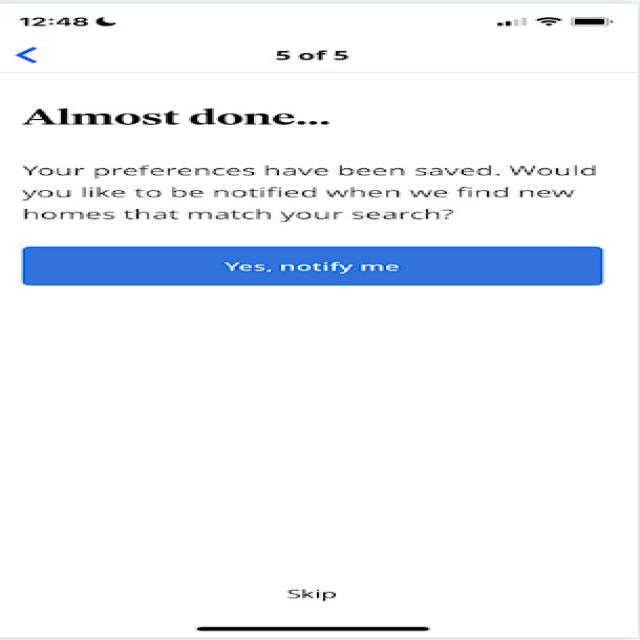button: (4, 237, 622, 302)
icon button: (0, 41, 103, 71)
text: (0, 94, 640, 229), (264, 580, 354, 603)
